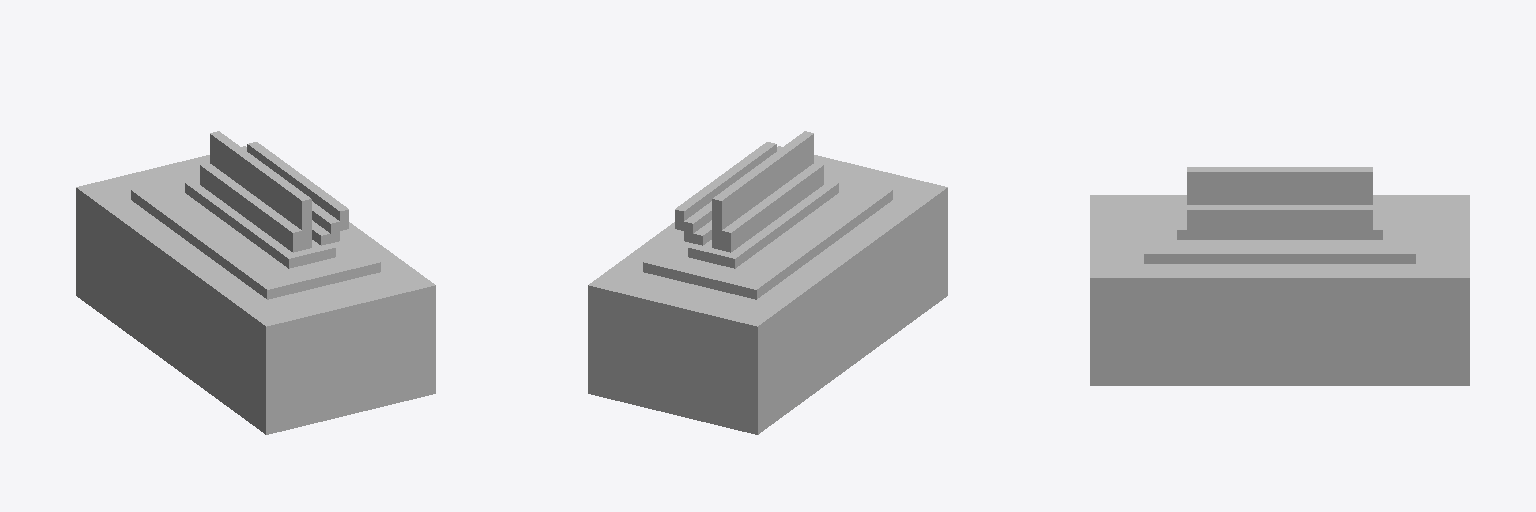
Rendered from Tissue.obj.
3 renders of one model, left to right at view 1: azimuth 30°, elevation 25°; view 2: azimuth 150°, elevation 25°; view 3: azimuth 270°, elevation 25°, orthographic.
Parts seen in each view (by area): view 1: object 1; view 2: object 1; view 3: object 1.
Part boxes in pixels (x1,y1,x2,y2): object 1: (76, 131, 435, 434); object 1: (588, 131, 947, 434); object 1: (1090, 167, 1469, 385).
Bounding box in the file's own units: 1.8 × 1.8 × 3.5.